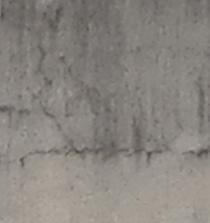fissura: (0, 57, 209, 169)
